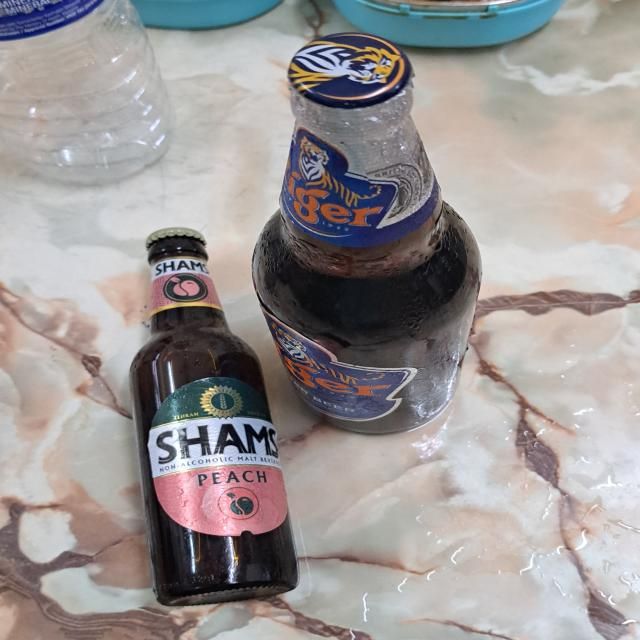glass bottle: (253, 34, 483, 436), (136, 226, 296, 604)
plastic bottle: (0, 0, 171, 185)
